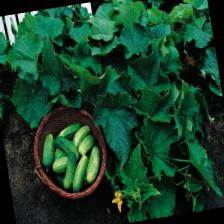cucumber: (58, 150, 82, 190), (81, 144, 105, 183), (68, 154, 92, 192), (54, 133, 80, 163), (38, 132, 58, 170), (51, 154, 77, 174)
